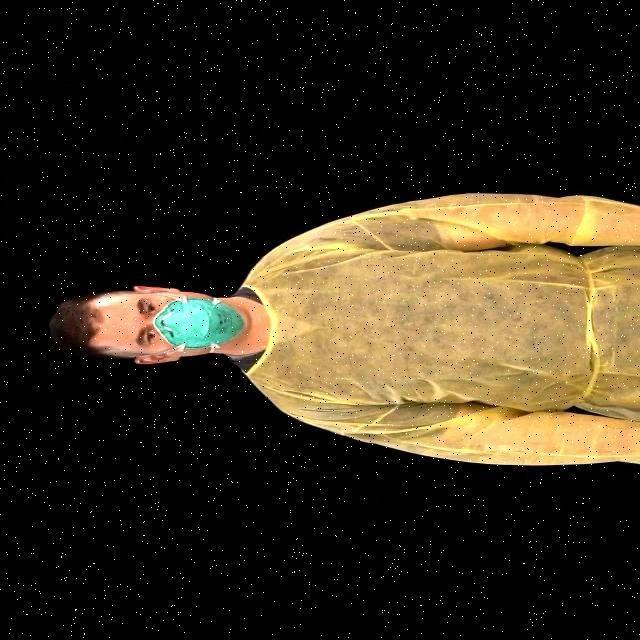mask: (162, 302, 236, 348)
no_gloves: (48, 289, 102, 357)
